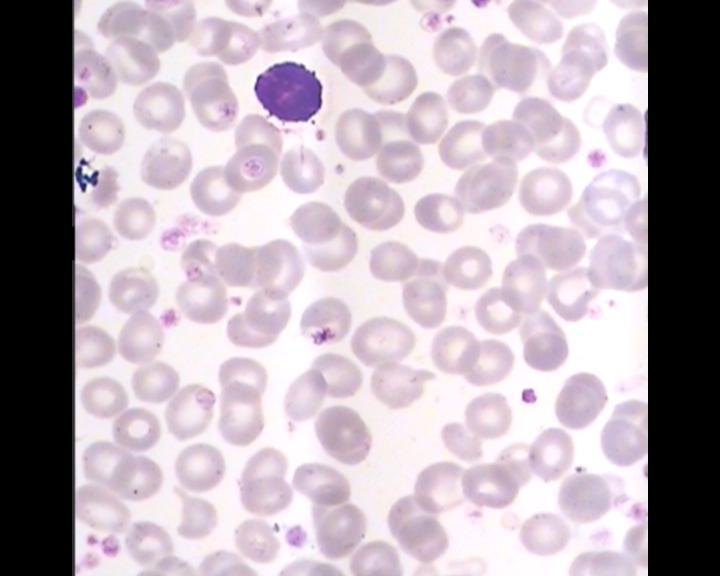baso: (250, 54, 328, 129)
